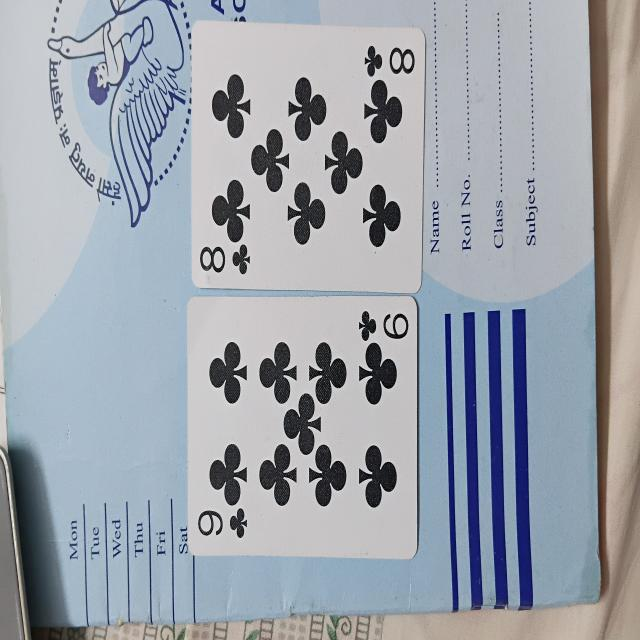8C: (191, 24, 423, 292)
9C: (187, 300, 418, 558)
